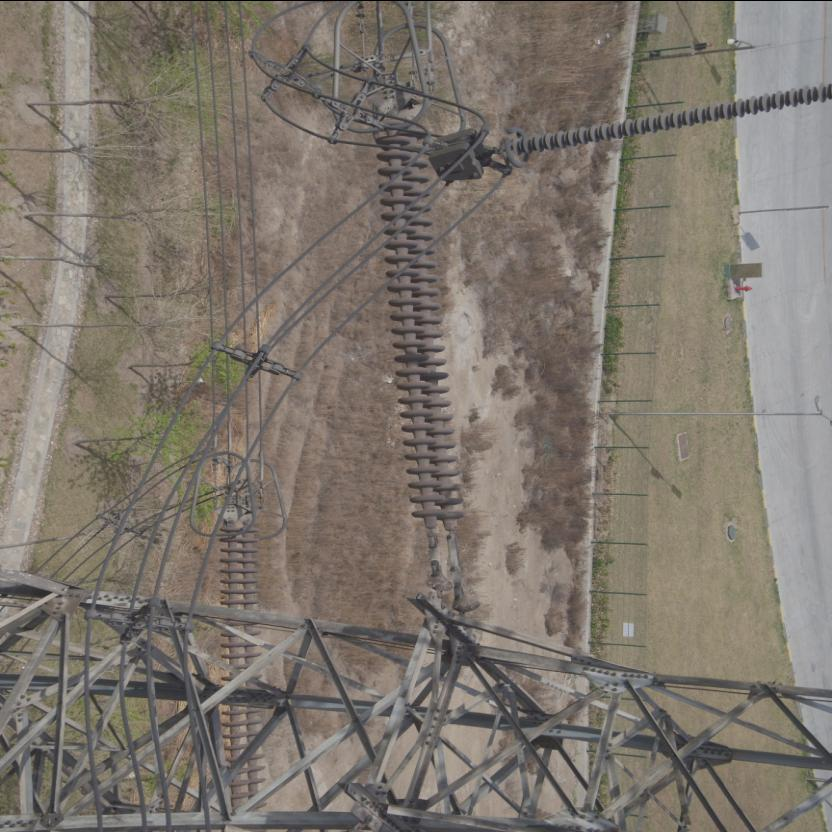insulator: (374, 114, 466, 552)
